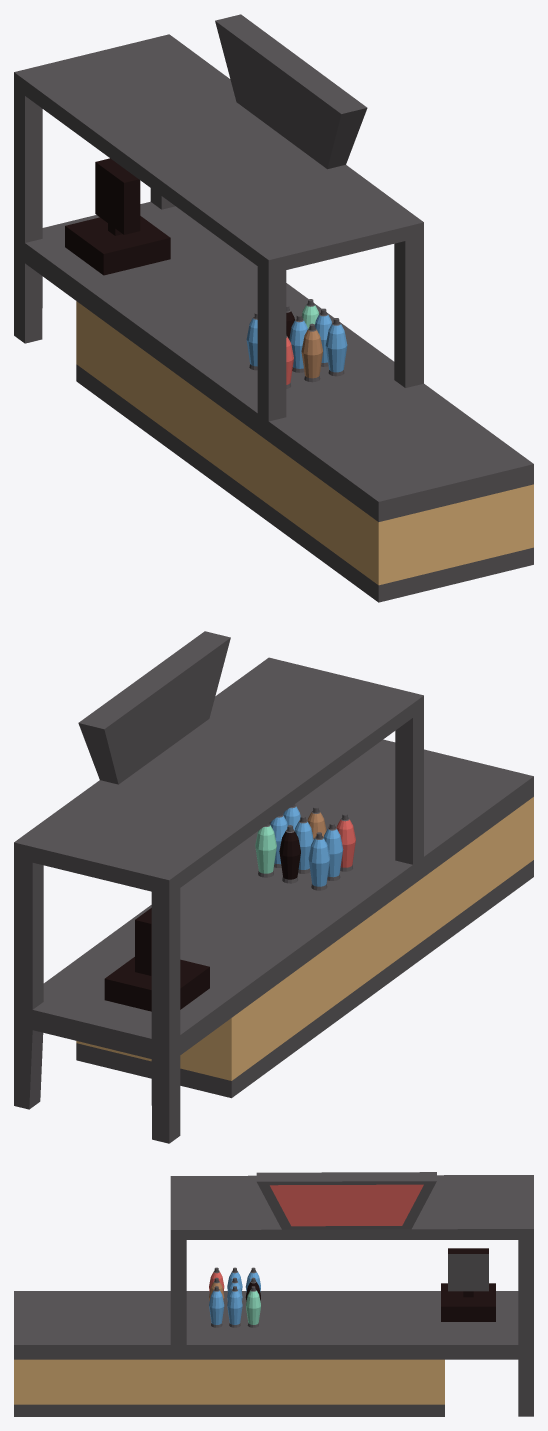
File: kiosk.fbx
3 renders of one model, top to bottom at view 1: azimuth 30°, elevation 25°; view 2: azimuth 150°, elevation 25°; view 3: azimuth 270°, elevation 25°, orthographic. The views are drawn at different scales.
Parts seen in each view (by area): view 1: Cube.003; view 2: Cube.003; view 3: Cube.003.
Part boxes in pixels (<box>): Cube.003: <box>14,14,533,602</box>; Cube.003: <box>14,631,533,1143</box>; Cube.003: <box>14,1172,533,1416</box>.
Bounding box in the file's own units: 335 × 670 × 1332.
